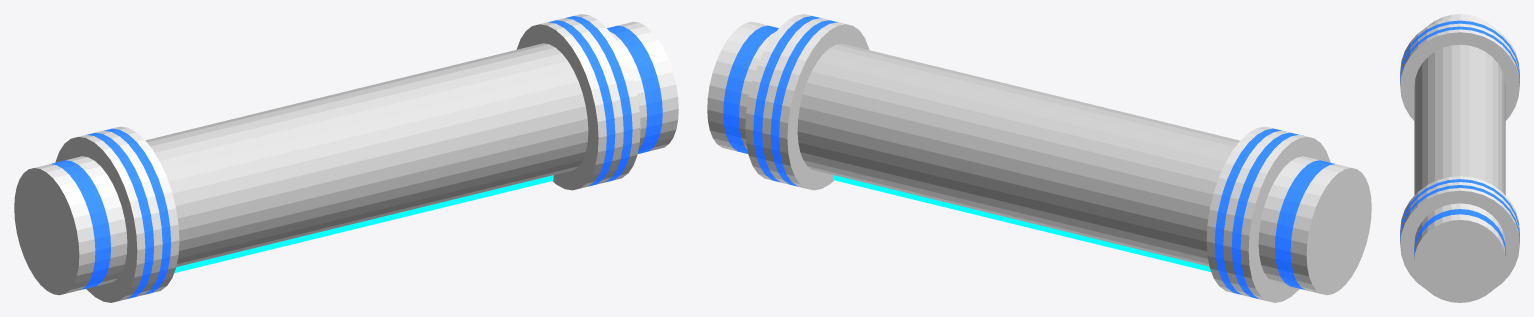
Rendered from Ascrollling.fbx.
3 renders of one model, left to right at view 1: azimuth 30°, elevation 25°; view 2: azimuth 150°, elevation 25°; view 3: azimuth 270°, elevation 25°, orthographic. The views are drawn at different scales.
Parts seen in each view (by area): view 1: Cylinder, Cube; view 2: Cylinder, Cube; view 3: Cylinder.
Part boxes in pixels (x1=…): Cylinder: x1=14, y1=14, x2=678, y2=302; Cube: x1=174, y1=175, x2=553, y2=272; Cylinder: x1=707, y1=14, x2=1371, y2=302; Cube: x1=833, y1=175, x2=1210, y2=271; Cylinder: x1=1400, y1=14, x2=1519, y2=302.
Size of the model in its own units: 915 by 225 by 225.
